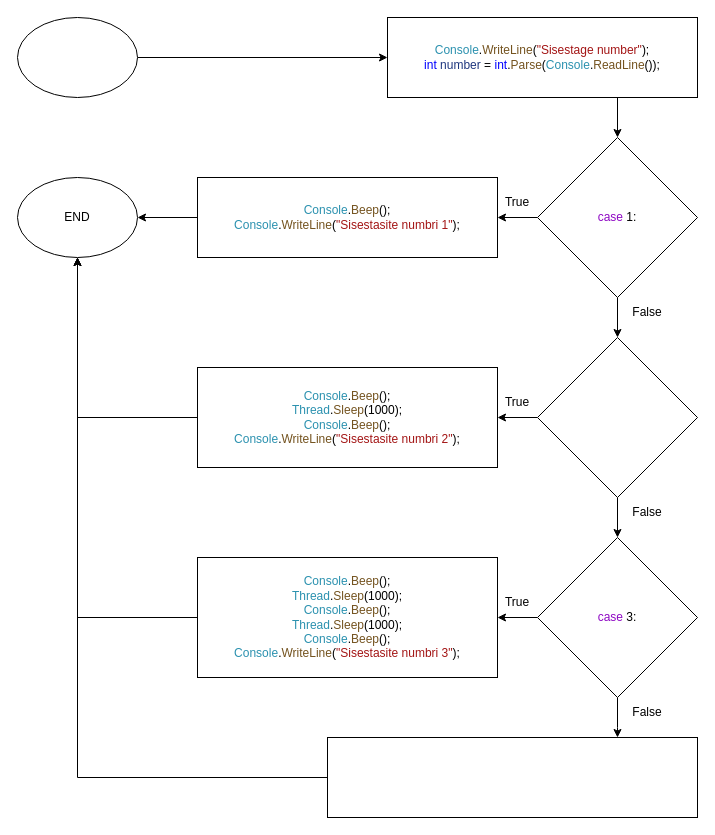
This 715x835 diagram has some shape labels left out. The centre of each missing label's shape, as x and y in pixels:
case 2:: (x=617, y=417)
Console . WriteLine ( "Sisestasite tundmatu väärtuse" );: (x=512, y=777)
START: (x=77, y=57)
